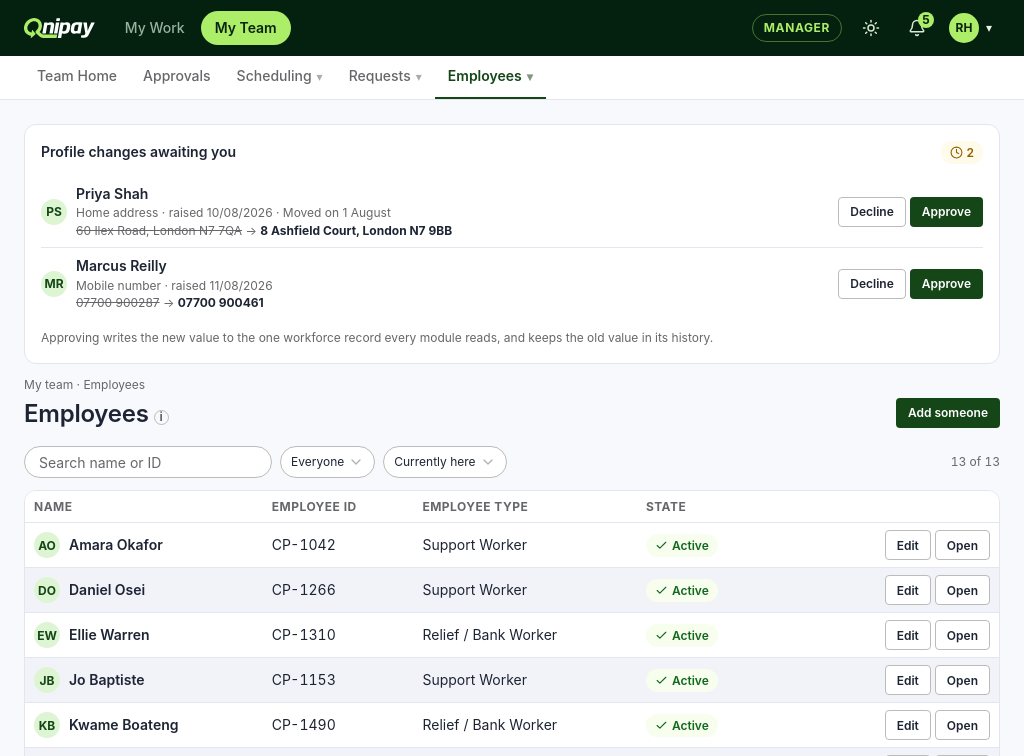
it: the bell shows the real unread count and the panel lists my items, newest first, with full test id coverage
Check: the text with test id "shell-bell-count" reads "5", box [922, 12, 930, 27]
Click the button with test id "shell-bell" at (917, 28), box [900, 11, 934, 45]
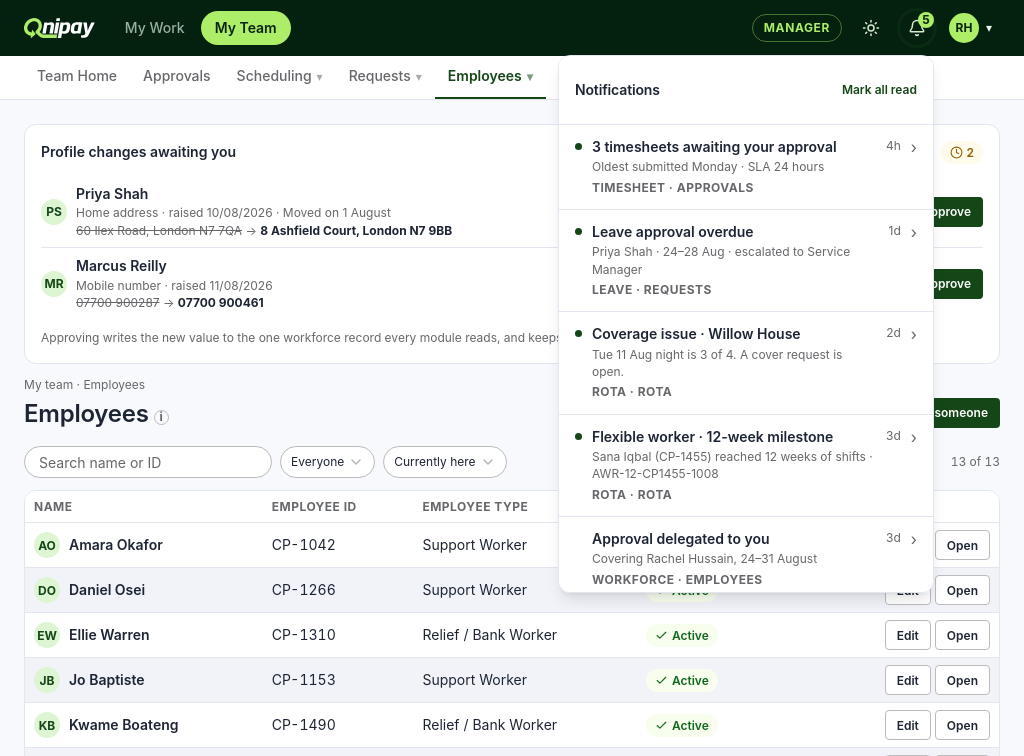
Check: the link with aria-label "Unread. 3 timesheets awaiting your approval. Open Approvals." shows "4h", box [559, 125, 933, 210]
